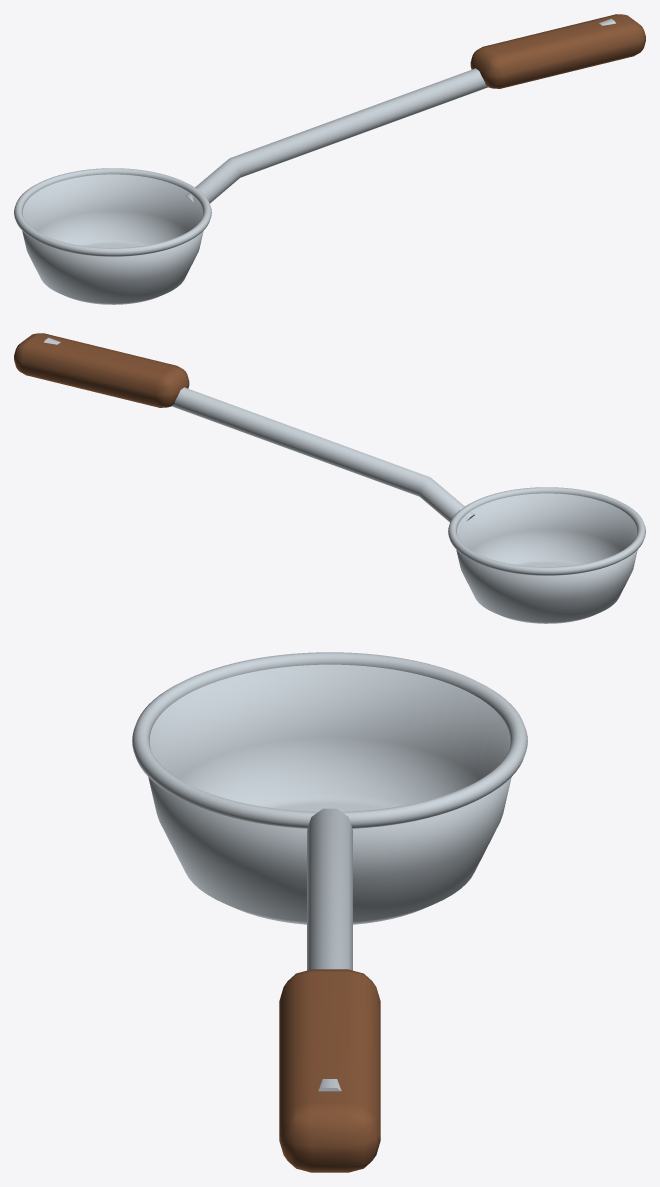
The model's file is Ladle.glb.
The picture shows the model from 3 angles, top to bottom: view 1: azimuth 30°, elevation 25°; view 2: azimuth 150°, elevation 25°; view 3: azimuth 270°, elevation 25°; orthographic projection. The views are drawn at different scales.
Parts seen in each view (by area): view 1: Vessel.003, Grip.001, Handle shank.002, Finished rim.003; view 2: Vessel.003, Grip.001, Handle shank.002, Finished rim.003; view 3: Vessel.003, Grip.001, Finished rim.003, Handle shank.002.
Boxes of the visible parts, bbox=[...] form: Vessel.003: bbox=[22, 174, 203, 304]; Grip.001: bbox=[470, 14, 645, 88]; Handle shank.002: bbox=[185, 18, 615, 203]; Finished rim.003: bbox=[14, 168, 211, 256]; Vessel.003: bbox=[456, 493, 637, 623]; Grip.001: bbox=[14, 333, 189, 407]; Handle shank.002: bbox=[44, 337, 474, 522]; Finished rim.003: bbox=[448, 487, 645, 575]; Vessel.003: bbox=[148, 664, 511, 924]; Grip.001: bbox=[279, 969, 380, 1172]; Finished rim.003: bbox=[132, 652, 527, 828]; Handle shank.002: bbox=[307, 808, 352, 1091].
Bounding box in the file's own units: 0.3064 × 0.0647 × 0.0858.
